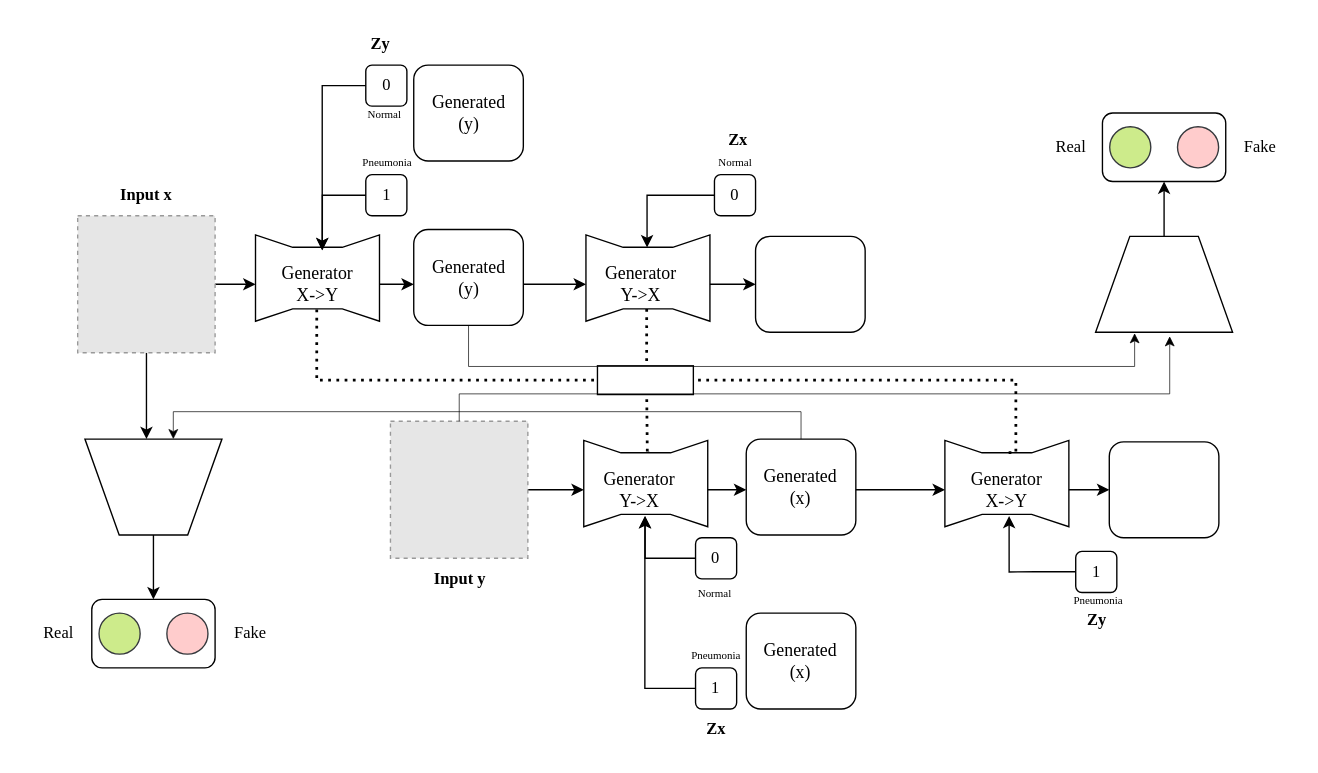
The diagram is 1318 pixels wide and 773 high, and some of its shapes have lost their labels. Grey dashed boxes stand in for pictures. The centre of each missing label's shape, as x and y in pixels:
"Discriminator Dx" belongs at point 153,486.
"Discriminator Dy" belongs at point 1163,283.
"Reconstructed (x)" belongs at point 809,283.
"Reconstructed (y)" belongs at point 1163,489.
"Weight sharing" belongs at point 644,379.
